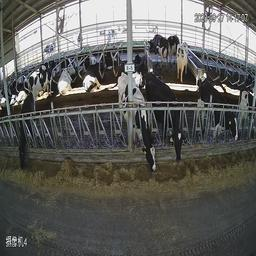cow: (116, 71, 155, 176), (144, 70, 186, 158), (195, 75, 238, 148), (17, 92, 36, 165), (28, 63, 56, 101), (82, 61, 106, 92), (151, 35, 170, 72), (130, 52, 147, 91), (57, 65, 77, 95), (175, 41, 188, 79), (78, 52, 97, 73), (103, 49, 119, 72)
